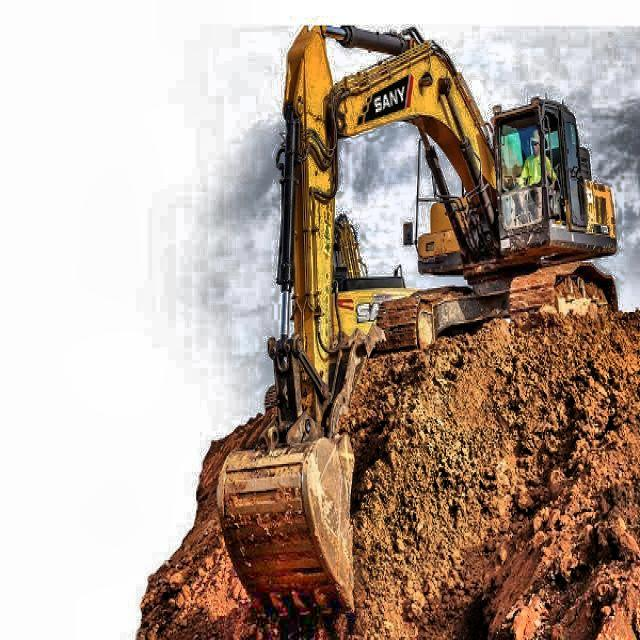excavator: (218, 21, 621, 624)
